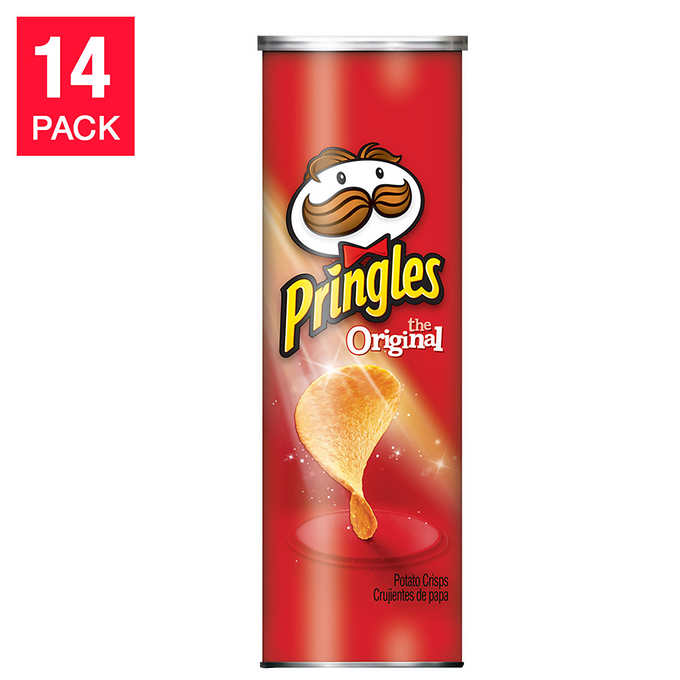pringle: (245, 31, 486, 668)
